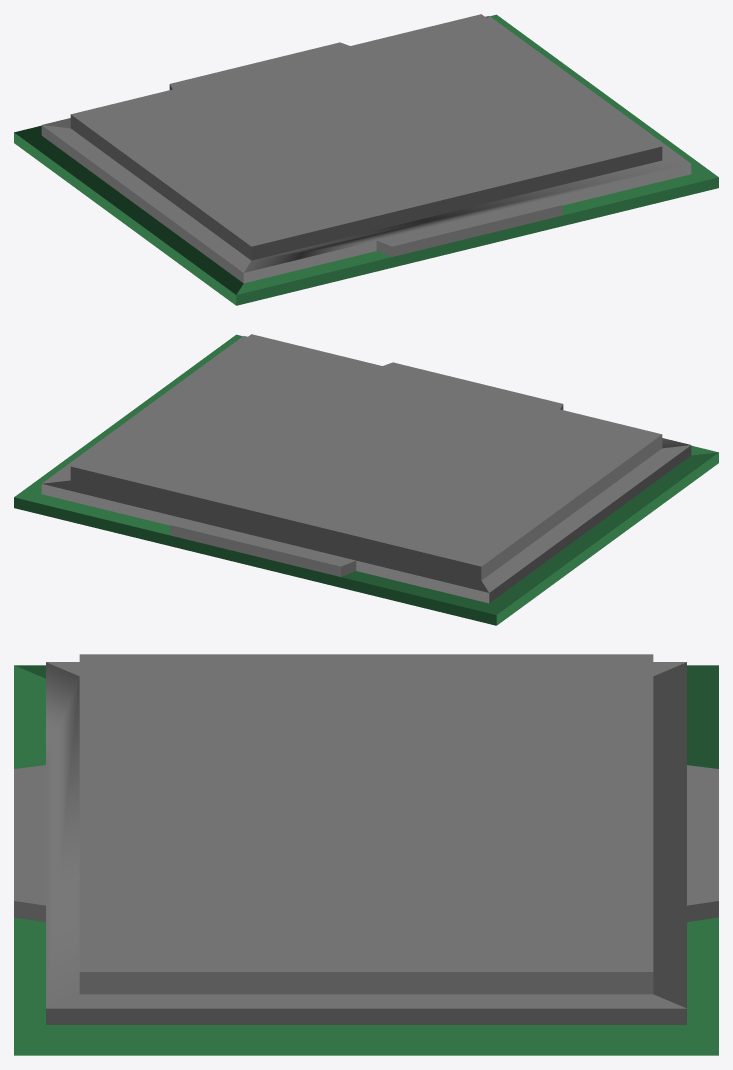
Rendered from CPU.fbx.
3 renders of one model, top to bottom at view 1: azimuth 30°, elevation 25°; view 2: azimuth 150°, elevation 25°; view 3: azimuth 270°, elevation 25°, orthographic. The views are drawn at different scales.
Parts seen in each view (by area): view 1: CPU; view 2: CPU; view 3: CPU.
Boxes of the visible parts, x1,y1,x2,y2 form: CPU: (14, 14, 718, 305); CPU: (14, 334, 718, 625); CPU: (14, 654, 718, 1055).
Bounding box in the file's own units: 4.7 × 0.3273 × 3.75.
